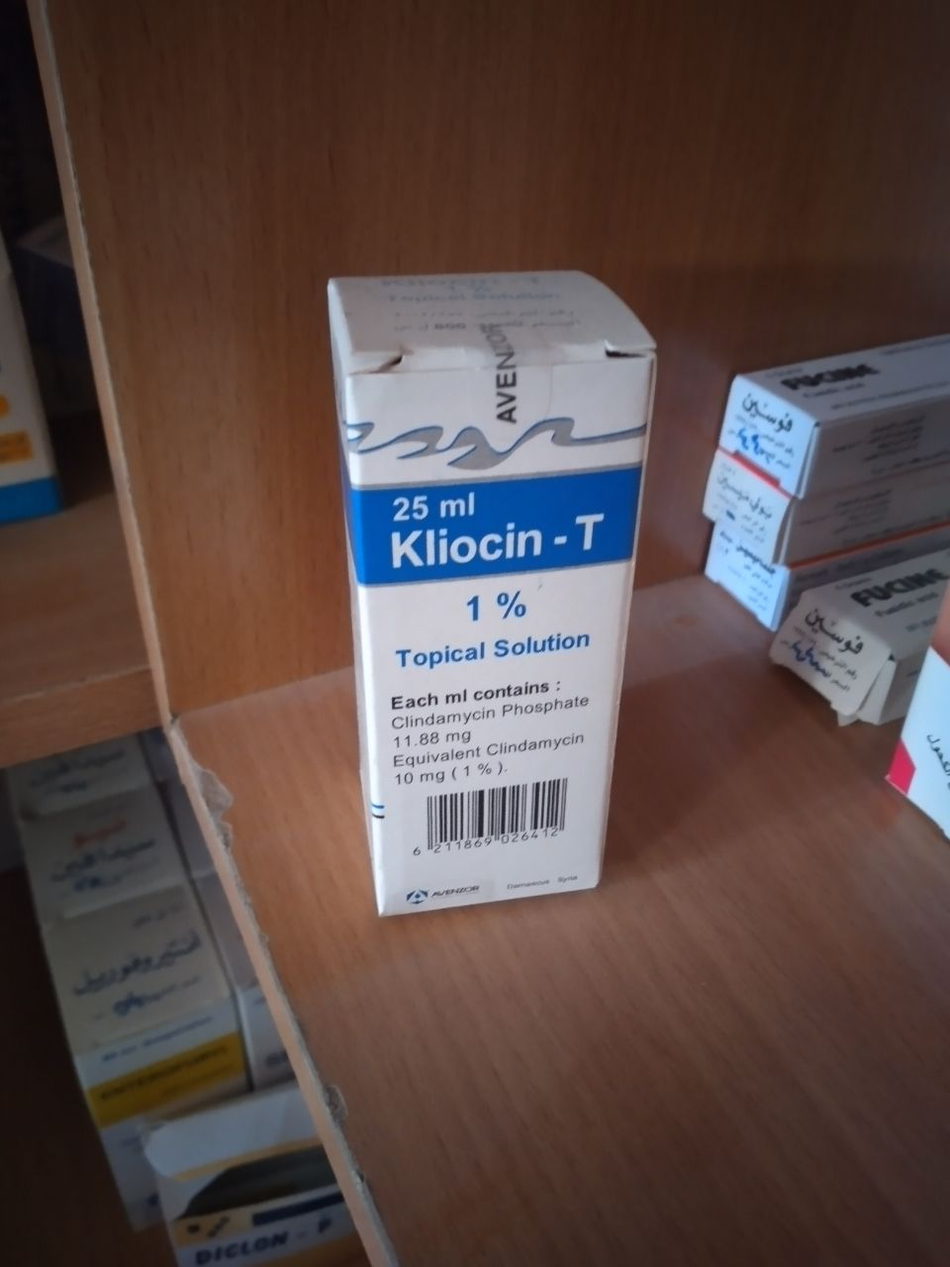Medicine: (297, 257, 666, 944), (726, 330, 950, 469), (775, 535, 950, 696), (887, 561, 950, 851), (696, 452, 907, 538), (696, 495, 815, 607)
